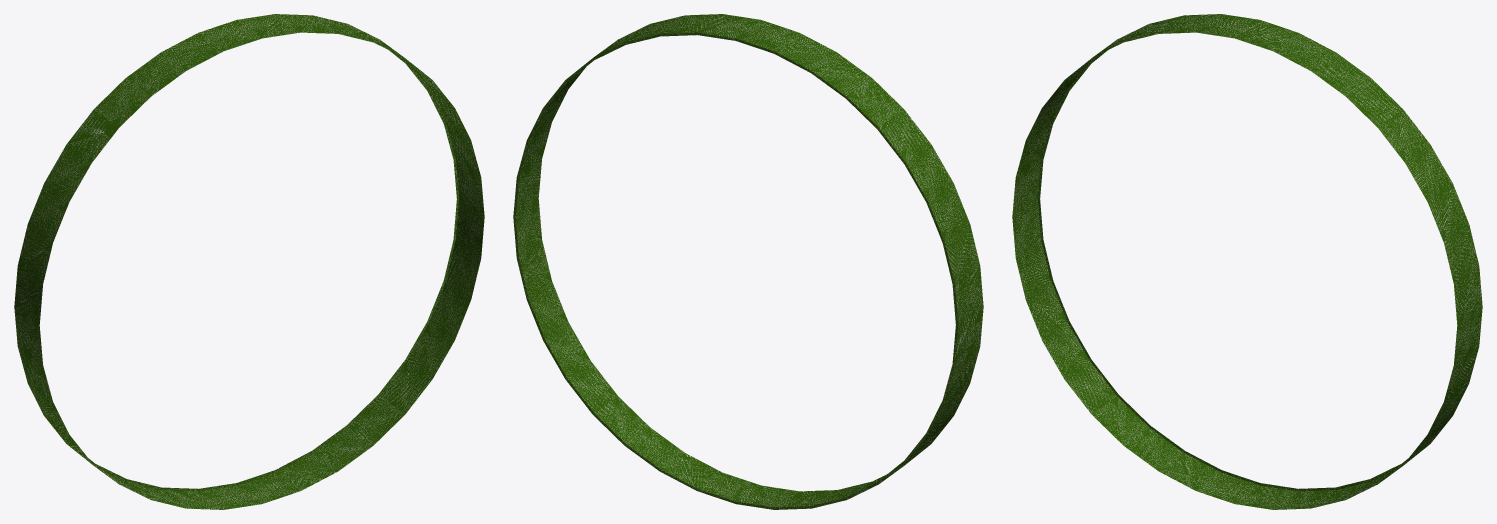
File: original-29.obj
3 views of the same model, side by side, from view 1: azimuth 30°, elevation 25°; view 2: azimuth 150°, elevation 25°; view 3: azimuth 330°, elevation 25° (orthographic).
Parts seen in each view (by area): view 1: #ID383; view 2: #ID383; view 3: #ID383.
Part boxes in pixels (bbox=[...]): #ID383: bbox=[14, 14, 484, 509]; #ID383: bbox=[513, 14, 983, 509]; #ID383: bbox=[1012, 14, 1482, 509].
Size of the model in its own units: 0.1032 by 0.1032 by 0.0102.
